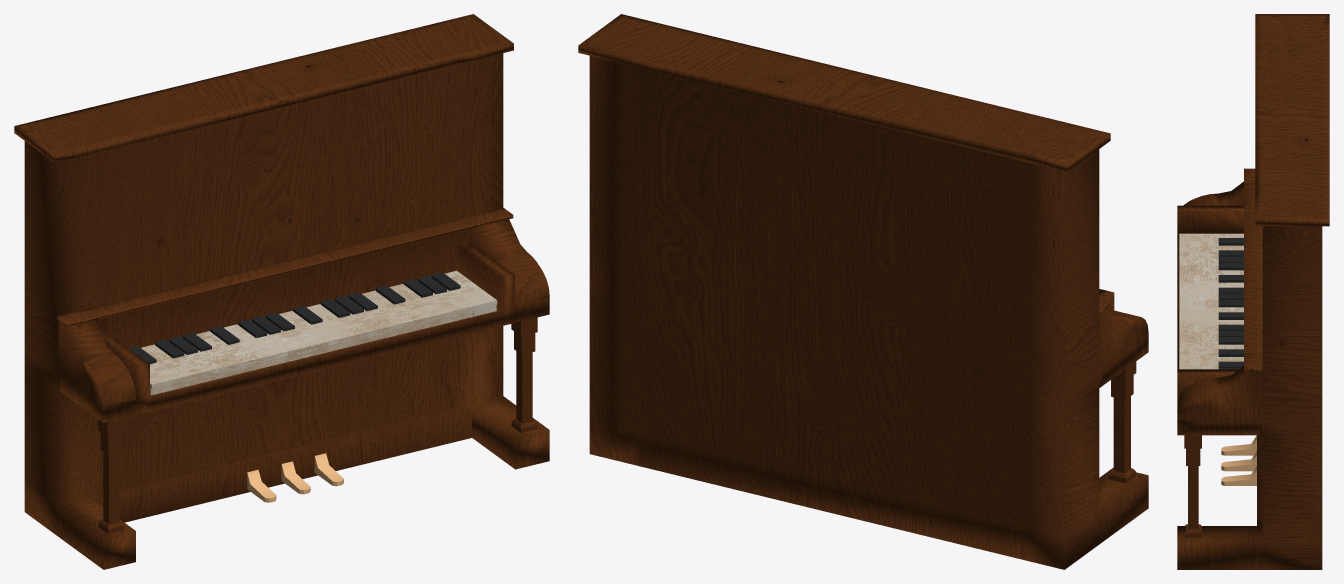
File: piano.fbx
3 views of the same model, side by side, from view 1: azimuth 30°, elevation 25°; view 2: azimuth 150°, elevation 25°; view 3: azimuth 270°, elevation 25° (orthographic). The views are drawn at different scales.
Parts seen in each view (by area): view 1: polySurface4, polySurface5, polySurface2, polySurface1; view 2: polySurface4, polySurface2; view 3: polySurface4, polySurface5, polySurface2, polySurface1.
Part boxes in pixels (<box>): polySurface4: <box>14,14,549,569</box>; polySurface5: <box>129,270,497,395</box>; polySurface2: <box>98,317,537,533</box>; polySurface1: <box>247,453,343,502</box>; polySurface4: <box>578,14,1148,569</box>; polySurface2: <box>1108,361,1136,483</box>; polySurface4: <box>1177,14,1329,569</box>; polySurface5: <box>1179,233,1243,369</box>; polySurface2: <box>1184,435,1201,537</box>; polySurface1: <box>1221,435,1256,485</box>.
Bounding box in the file's own units: 172 × 138 × 53.62.
Materials: 4 (4 with a texture image).
